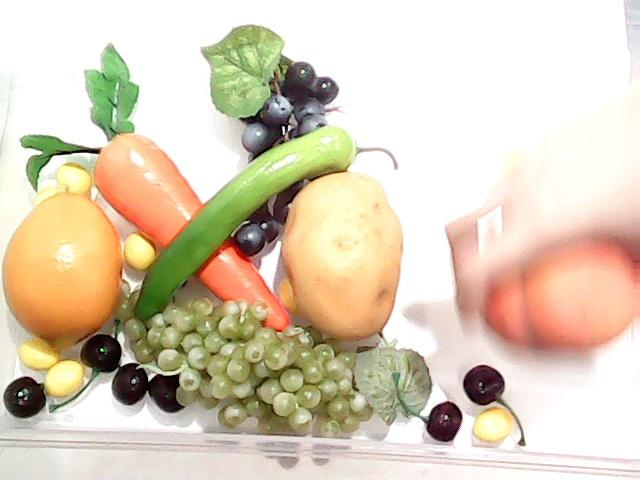carrot: (18, 39, 294, 333)
grape: (122, 304, 434, 436), (200, 24, 336, 256), (144, 300, 148, 304)
lemon: (2, 184, 130, 348)
peach: (479, 224, 640, 348)
pepper: (127, 119, 365, 325)
potato: (279, 170, 405, 342)
